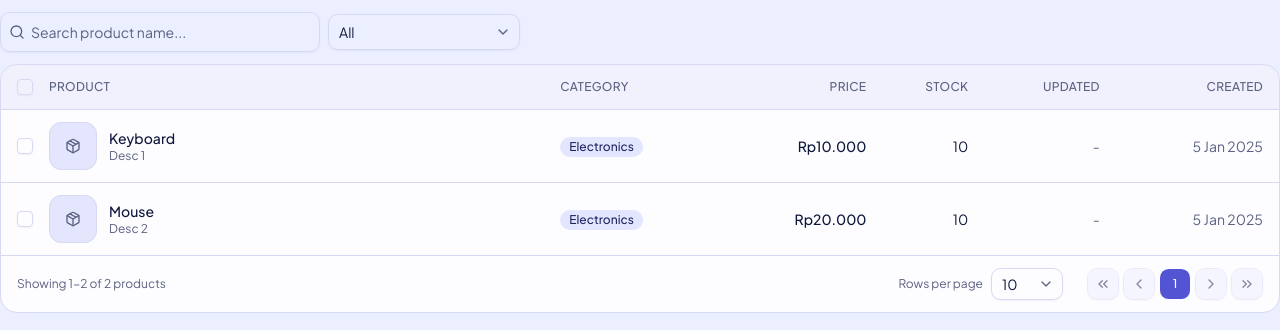
Test: ProductView: daftar dan search › search memfilter berdasarkan nama tanpa case sensitive
This screenshot has width=1280, height=330.
In the field with placeholder "Search product name...": (172, 32) left=25, top=14, right=319, bottom=50, type "KEY"
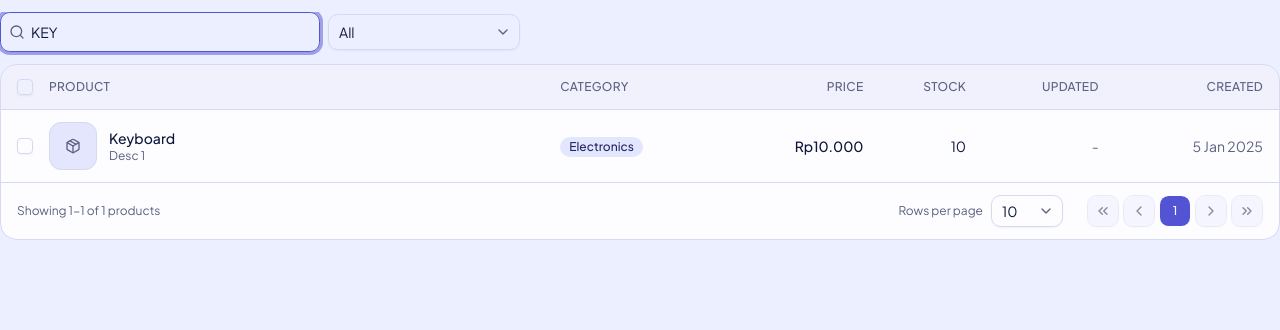
Expected: the text "Keyboard" is shown, left=109, top=128, right=175, bottom=148
Result: the text "Mouse" is gone
